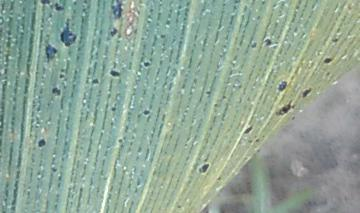tarspot: (60, 15, 78, 48), (271, 99, 297, 118), (42, 43, 59, 61), (109, 1, 122, 20), (262, 37, 277, 49), (197, 161, 209, 175), (301, 87, 313, 100), (36, 136, 47, 150), (52, 1, 64, 13), (276, 80, 288, 92), (51, 86, 62, 98), (109, 68, 121, 79), (108, 26, 118, 39), (244, 125, 253, 137), (37, 1, 52, 8), (109, 102, 118, 113), (115, 136, 125, 145), (142, 107, 151, 117), (142, 59, 152, 68), (323, 57, 333, 65), (49, 164, 57, 173), (56, 72, 65, 80), (330, 37, 340, 44), (204, 88, 212, 96), (91, 78, 100, 85), (250, 41, 257, 50), (246, 137, 253, 146), (254, 136, 260, 145), (215, 175, 222, 182), (175, 203, 183, 209), (81, 1, 88, 5)
